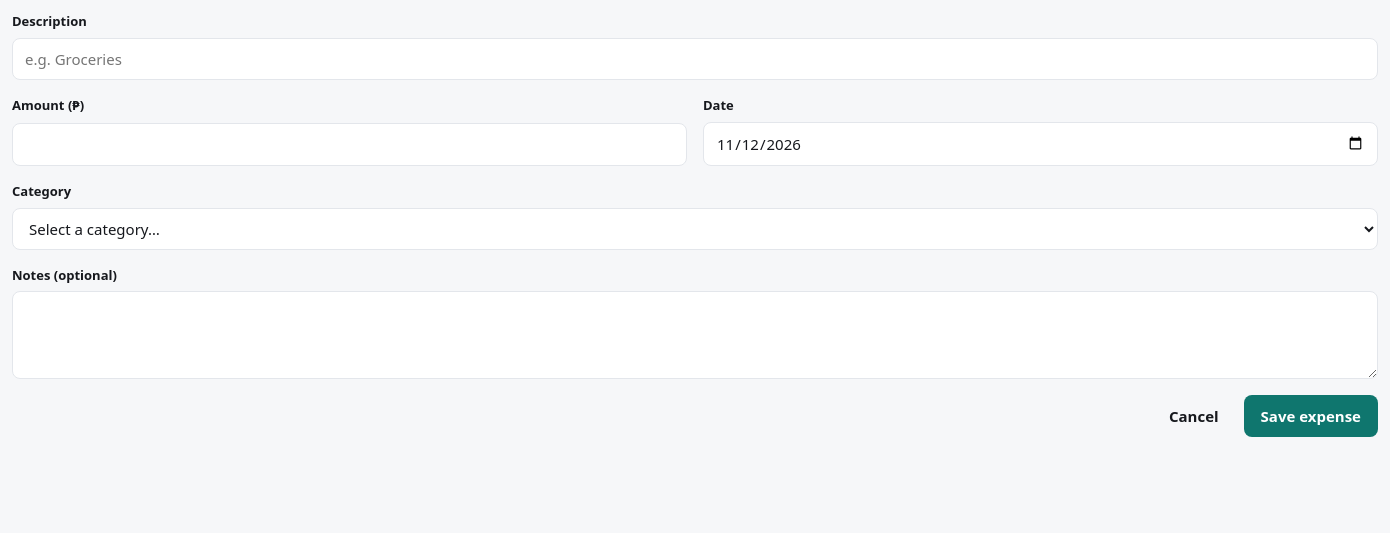
ExpenseForm › shows field errors and does not submit invalid data
Click the button "Save expense" at [1311, 416], box [1244, 394, 1378, 437]
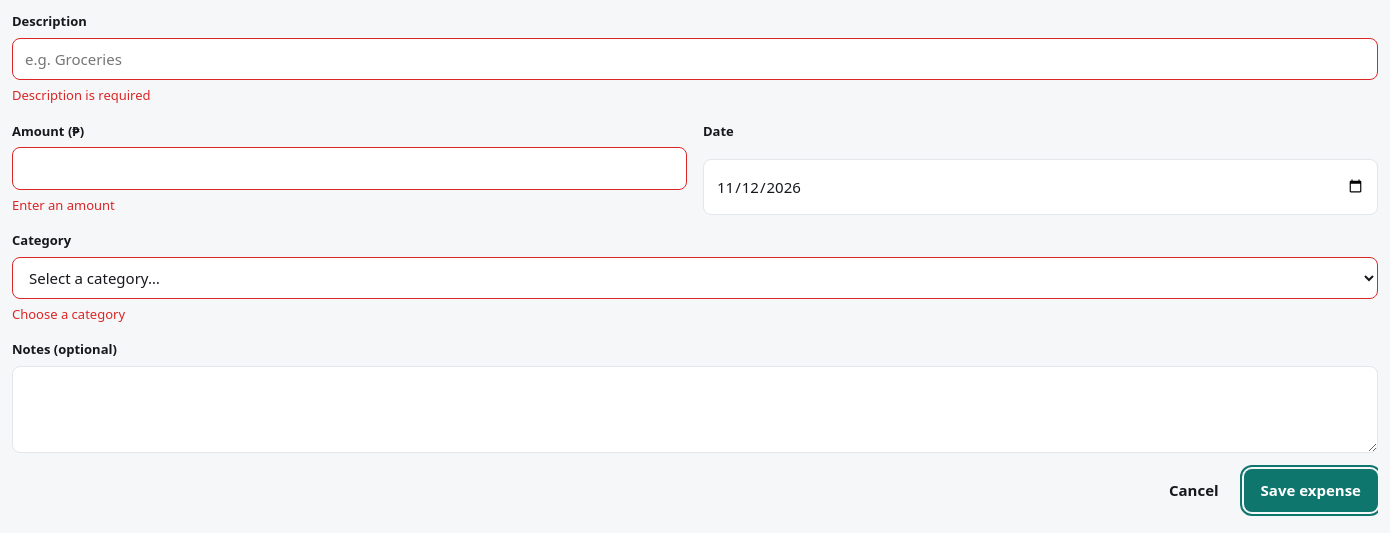
Check: the text "Description is required" is shown, box [12, 86, 151, 104]
Check: the text "Enter an amount" is shown, box [12, 196, 115, 214]
Check: the text "Choose a category" is shown, box [12, 304, 125, 322]
